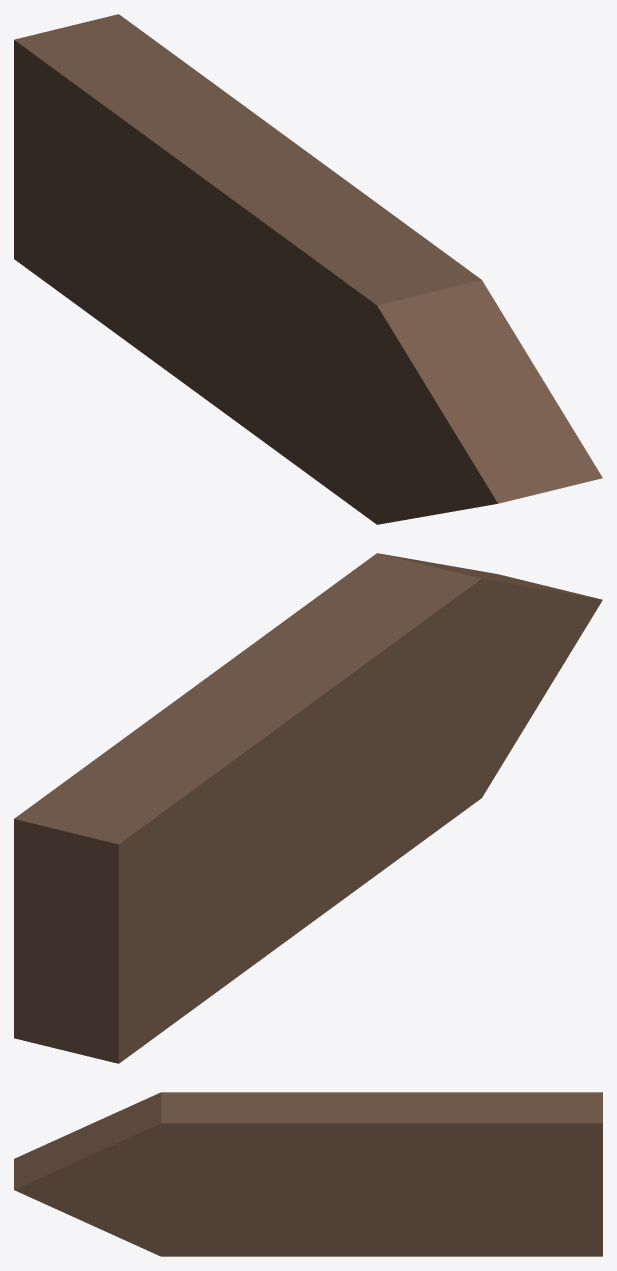
Rendered from direction_board.fbx.
3 renders of one model, top to bottom at view 1: azimuth 30°, elevation 25°; view 2: azimuth 150°, elevation 25°; view 3: azimuth 270°, elevation 25°, orthographic. The views are drawn at different scales.
Visible parts, largest first — view 1: direction.board; view 2: direction.board; view 3: direction.board.
Boxes of the visible parts, x1=… form: direction.board: x1=14, y1=14, x2=602, y2=524; direction.board: x1=14, y1=553, x2=602, y2=1063; direction.board: x1=14, y1=1092, x2=602, y2=1256.
Bounding box in the file's own units: 10 × 20 × 80.
